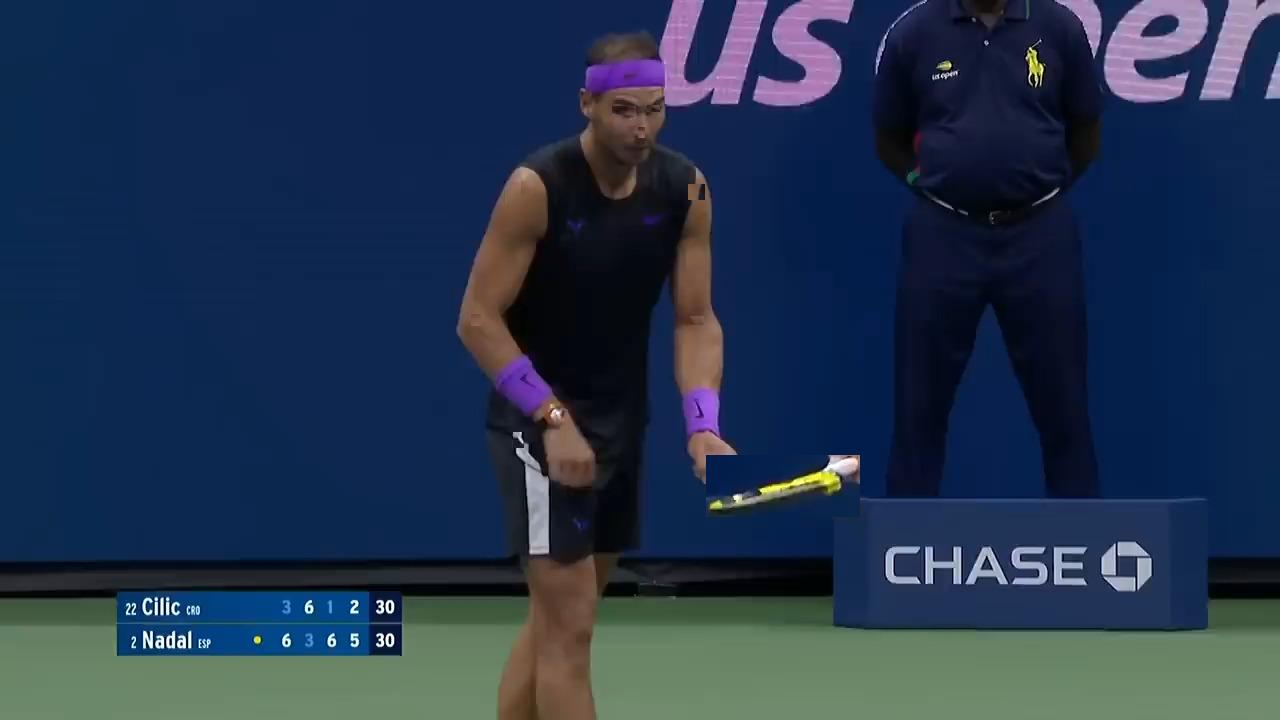elbow: (472, 315, 483, 328), (690, 317, 704, 327)
eye: (613, 107, 638, 117), (647, 106, 660, 114)
hand: (699, 440, 717, 448), (559, 449, 573, 456)
hip: (514, 432, 526, 448), (625, 435, 636, 446)
knee: (562, 609, 585, 623)
nose: (639, 127, 647, 138)
shoulder: (688, 185, 705, 202), (522, 182, 536, 196)
tennis racket: (706, 455, 860, 517)
